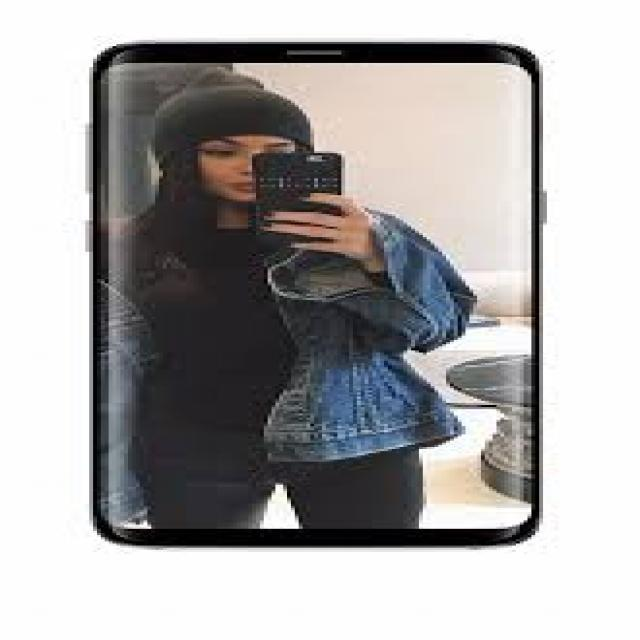Phone: (89, 37, 551, 553)
